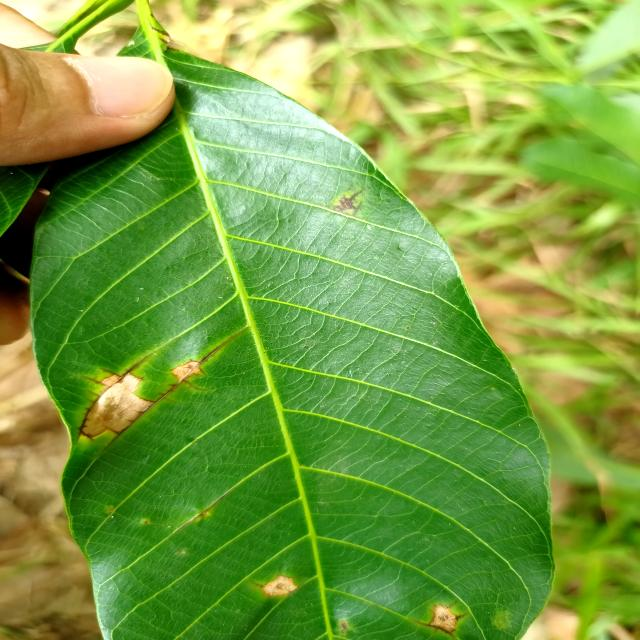Corynespora: (115, 344, 224, 439), (76, 354, 146, 441), (413, 618, 454, 638), (333, 192, 364, 214)
Leaf-Blight: (82, 373, 153, 434), (263, 576, 297, 596), (432, 603, 456, 631), (175, 361, 200, 382)
